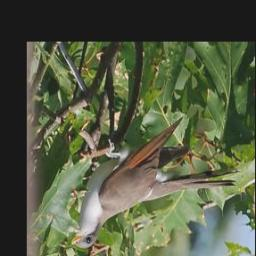Cuckoo: (71, 118, 241, 250)
